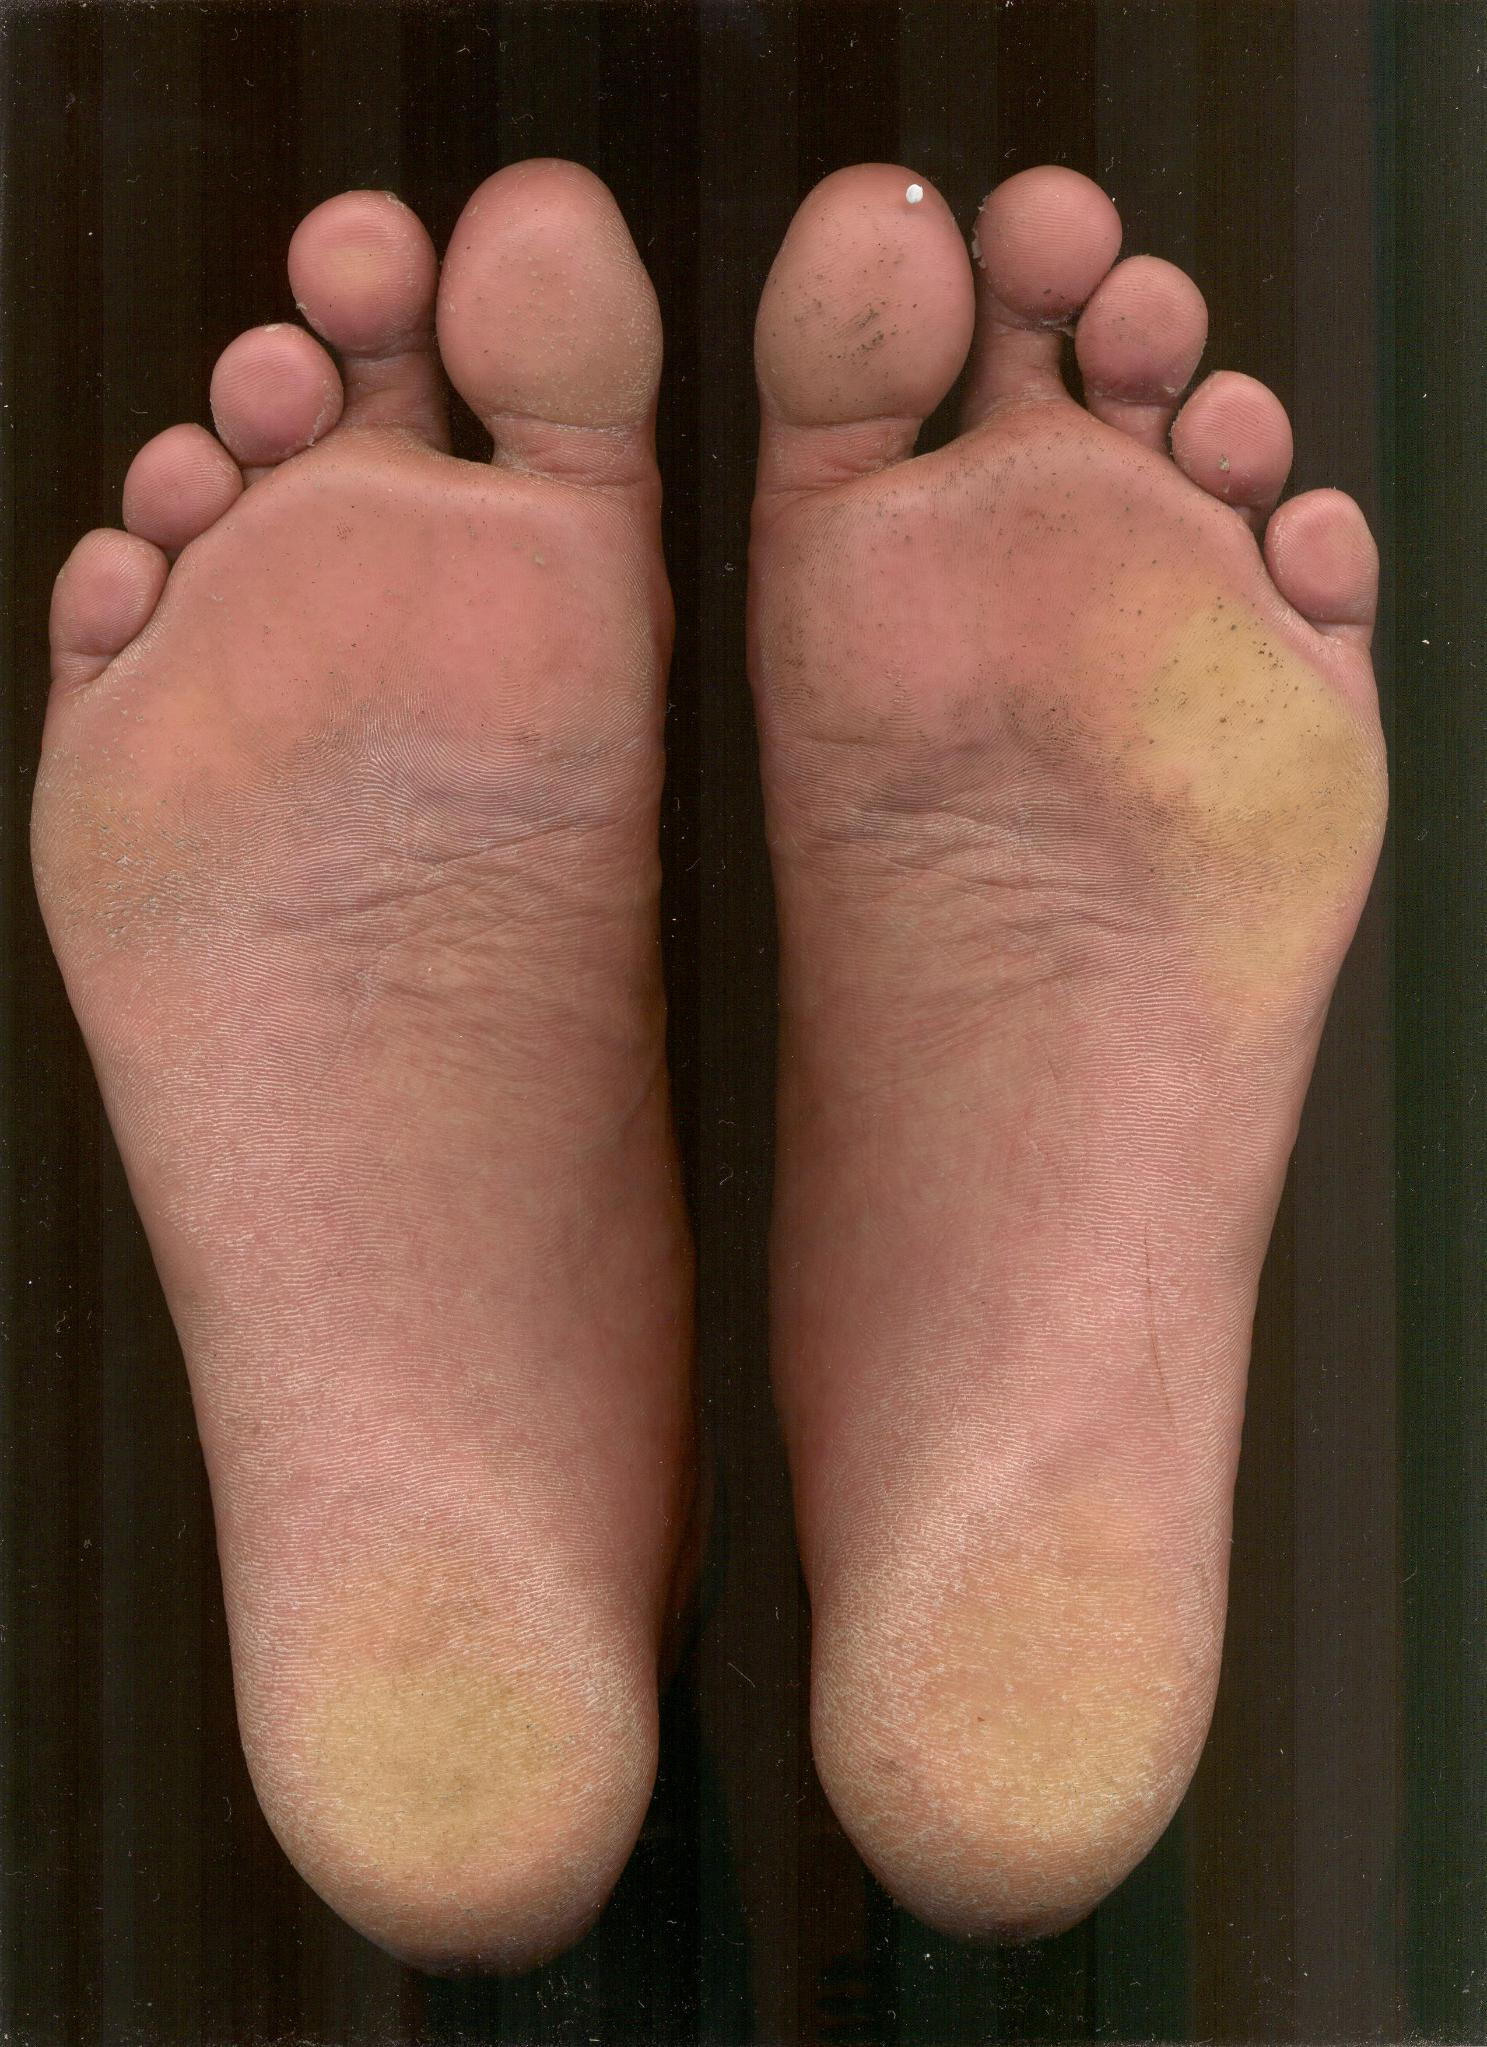1: (6, 153, 712, 2001)
Present: (753, 146, 1411, 1948)
